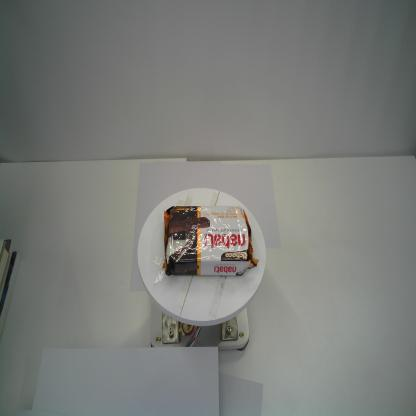Dessert: (160, 199, 261, 282)
